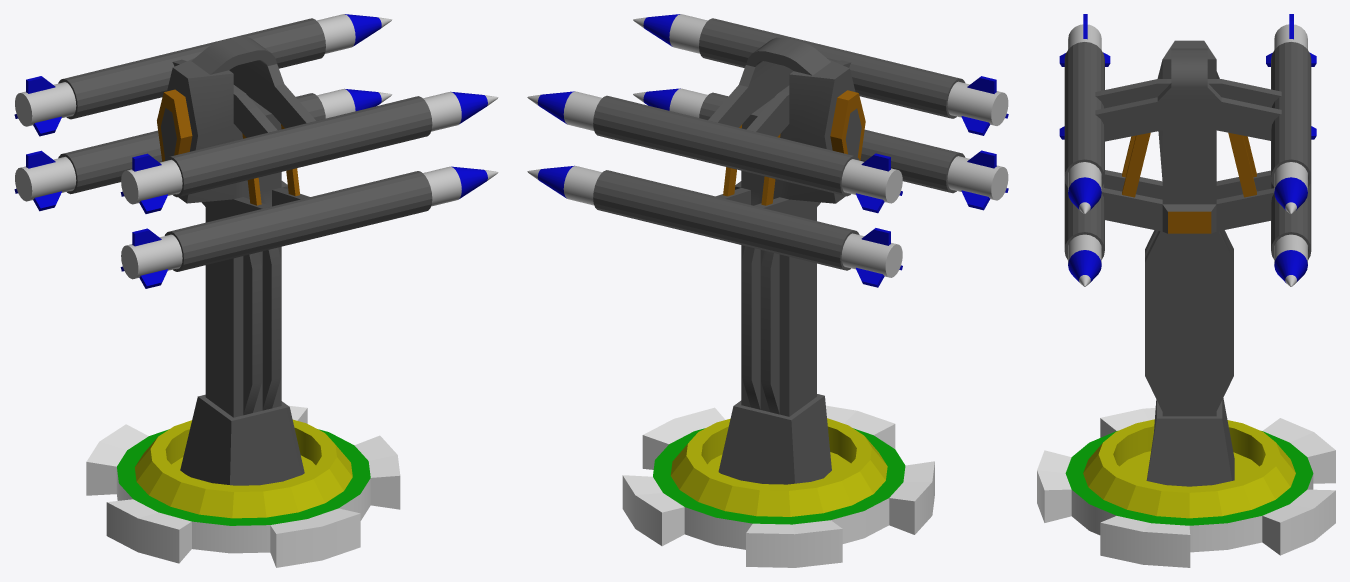
File: machine7.fbx
The picture shows the model from 3 angles, left to right: view 1: azimuth 30°, elevation 25°; view 2: azimuth 150°, elevation 25°; view 3: azimuth 270°, elevation 25°; orthographic projection. The views are drawn at different scales.
Visible parts, largest first — view 1: machine7body1, machine7body, machine7body2, machine7body3, machine7body5, machine7body4, machine7missile2, machine7missile1, machine7missile, machine7missile3; view 2: machine7body1, machine7body, machine7body4, machine7body5, machine7body2, machine7body3, machine7missile, machine7missile1, machine7missile3, machine7missile2; view 3: machine7body1, machine7body, machine7body2, machine7body5, machine7missile1, machine7missile, machine7body4, machine7body3, machine7missile2, machine7missile3.
Boxes of the visible parts, x1=… form: machine7body1: x1=157, y1=36, x2=315, y2=485; machine7body: x1=86, y1=405, x2=400, y2=567; machine7body2: x1=165, y1=96, x2=432, y2=197; machine7body3: x1=164, y1=171, x2=432, y2=271; machine7body5: x1=58, y1=18, x2=325, y2=119; machine7body4: x1=58, y1=93, x2=325, y2=194; machine7missile2: x1=121, y1=166, x2=498, y2=279; machine7missile1: x1=121, y1=91, x2=498, y2=204; machine7missile: x1=15, y1=14, x2=391, y2=126; machine7missile3: x1=15, y1=88, x2=391, y2=201; machine7body1: x1=708, y1=37, x2=865, y2=484; machine7body: x1=622, y1=405, x2=934, y2=567; machine7body4: x1=593, y1=170, x2=859, y2=270; machine7body5: x1=593, y1=95, x2=859, y2=196; machine7body2: x1=699, y1=18, x2=965, y2=118; machine7body3: x1=699, y1=92, x2=965, y2=193; machine7missile: x1=527, y1=91, x2=902, y2=203; machine7missile1: x1=633, y1=14, x2=1008, y2=125; machine7missile3: x1=527, y1=165, x2=902, y2=277; machine7missile2: x1=633, y1=88, x2=1008, y2=200; machine7body1: x1=1095, y1=40, x2=1281, y2=486; machine7body: x1=1037, y1=408, x2=1335, y2=567; machine7body2: x1=1064, y1=42, x2=1104, y2=187; machine7body5: x1=1271, y1=42, x2=1311, y2=187; machine7missile1: x1=1068, y1=24, x2=1101, y2=214; machine7missile: x1=1274, y1=24, x2=1307, y2=214; machine7body4: x1=1271, y1=180, x2=1311, y2=259; machine7body3: x1=1064, y1=180, x2=1104, y2=259; machine7missile2: x1=1068, y1=234, x2=1101, y2=286; machine7missile3: x1=1274, y1=234, x2=1307, y2=286.
Bounding box in the file's own units: 138 × 163 × 99.49.
